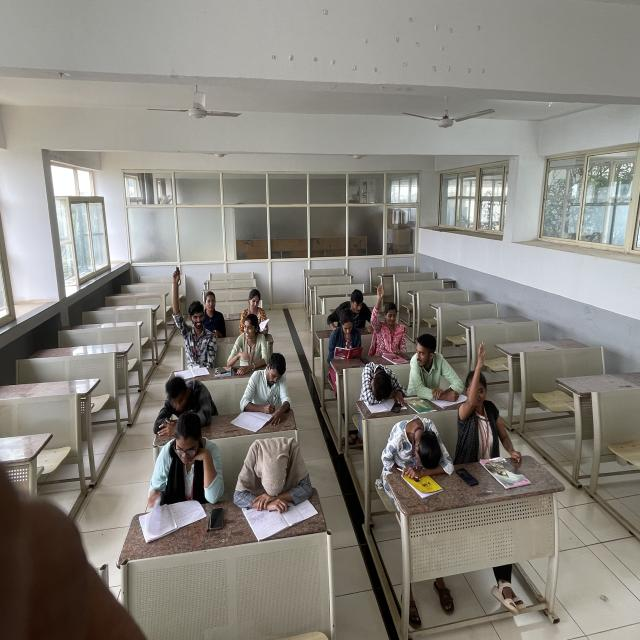Hand Rising: (441, 328, 516, 450), (164, 258, 218, 362), (364, 274, 414, 354)
Reading: (321, 314, 372, 371)
Sleeping: (230, 431, 310, 500), (377, 407, 452, 468), (347, 352, 402, 404)
Writing: (234, 346, 294, 422)
